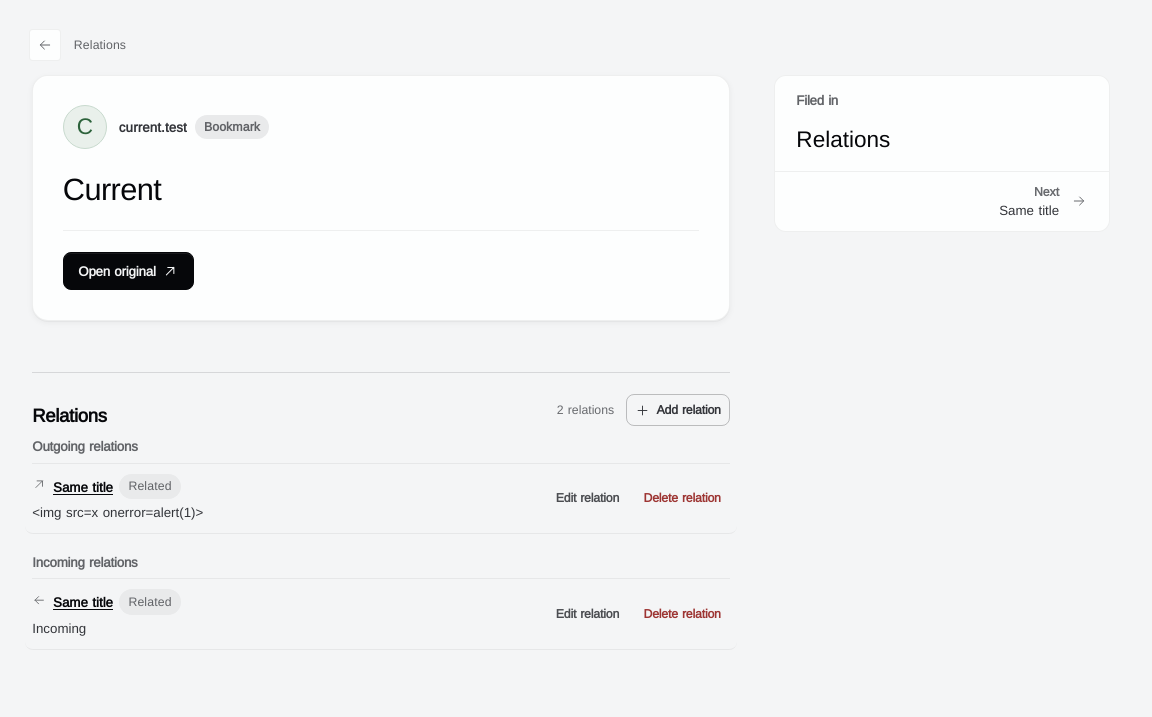
Test: Resource Detail Relation workflow › replays the exact replacement phase and command after an unknown create outcome
Click the button "Edit relation" in the row of "<img src=x onerror=alert(1)>" at (587, 498), box 547,482 -> 628,514
(page scrolled)
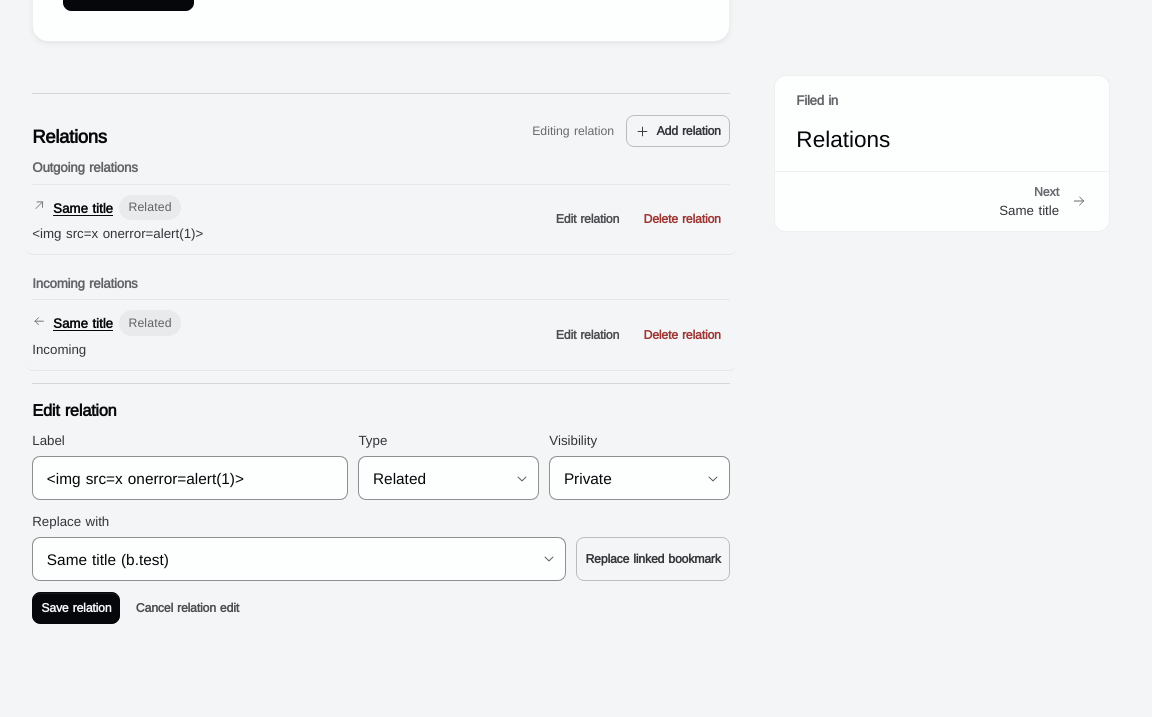
Select "Same title (a.test)" in the dropdown named "Replace with" at (299, 559), box 32,537 -> 566,581
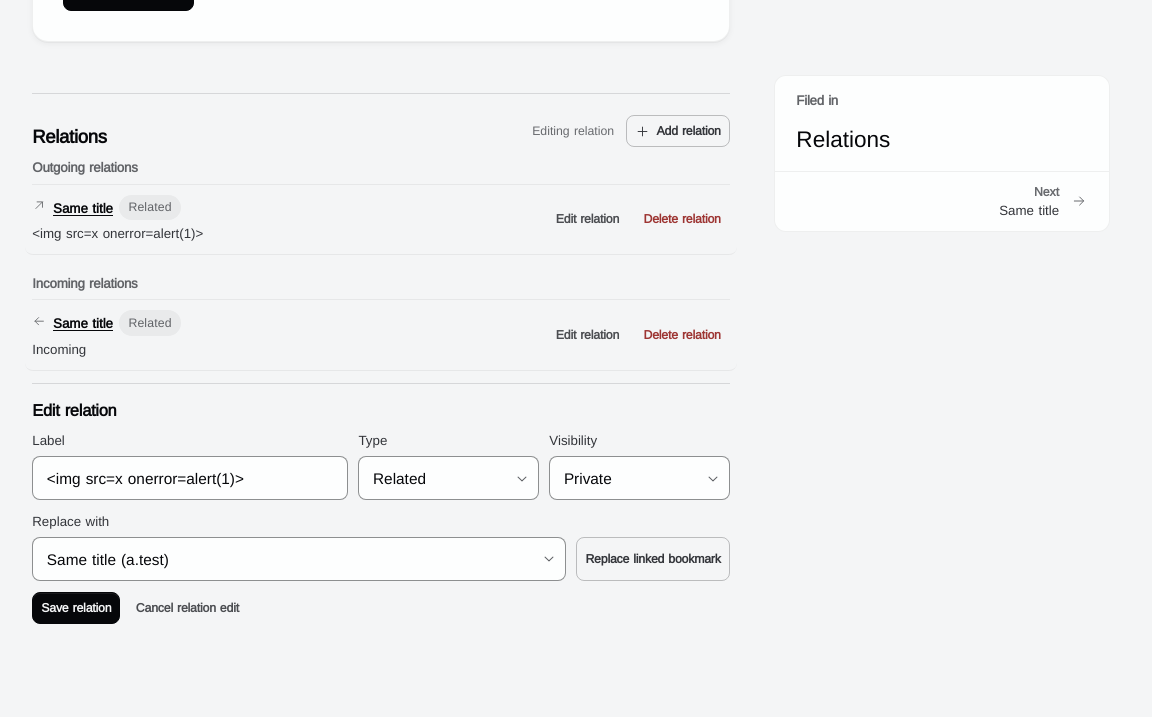
Click the button "Replace linked bookmark" at (653, 559), box 576,537 -> 730,581
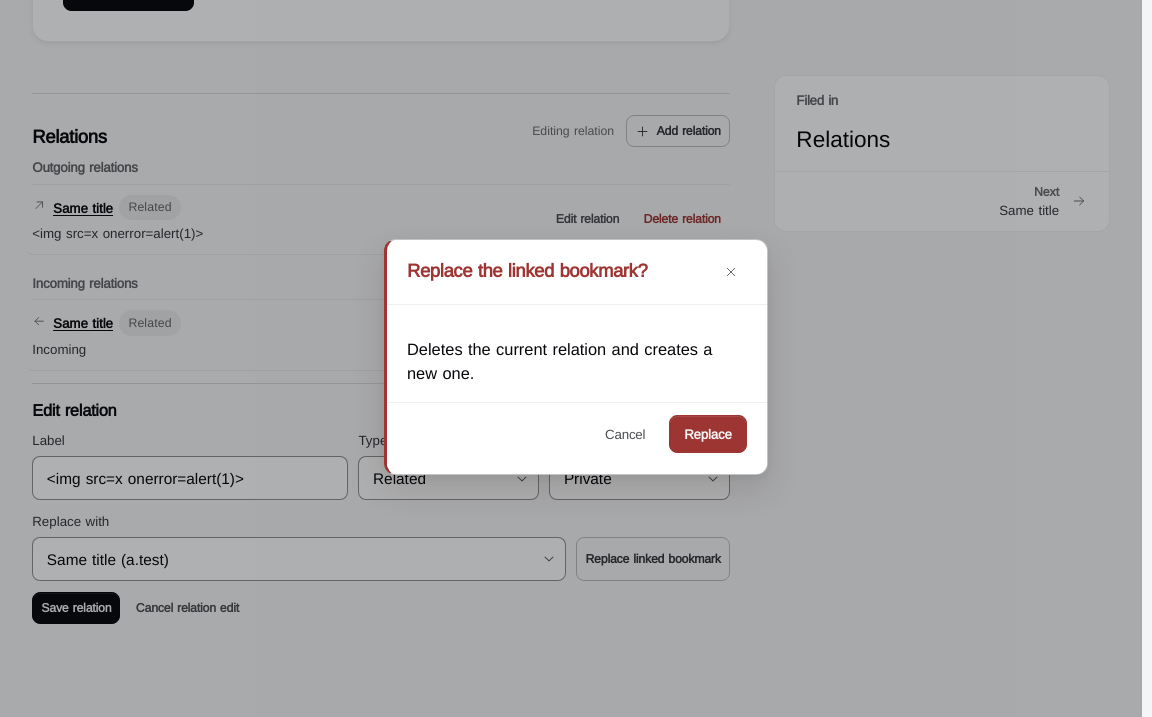
Click the button "Replace" at (708, 434), box 669,415 -> 747,453
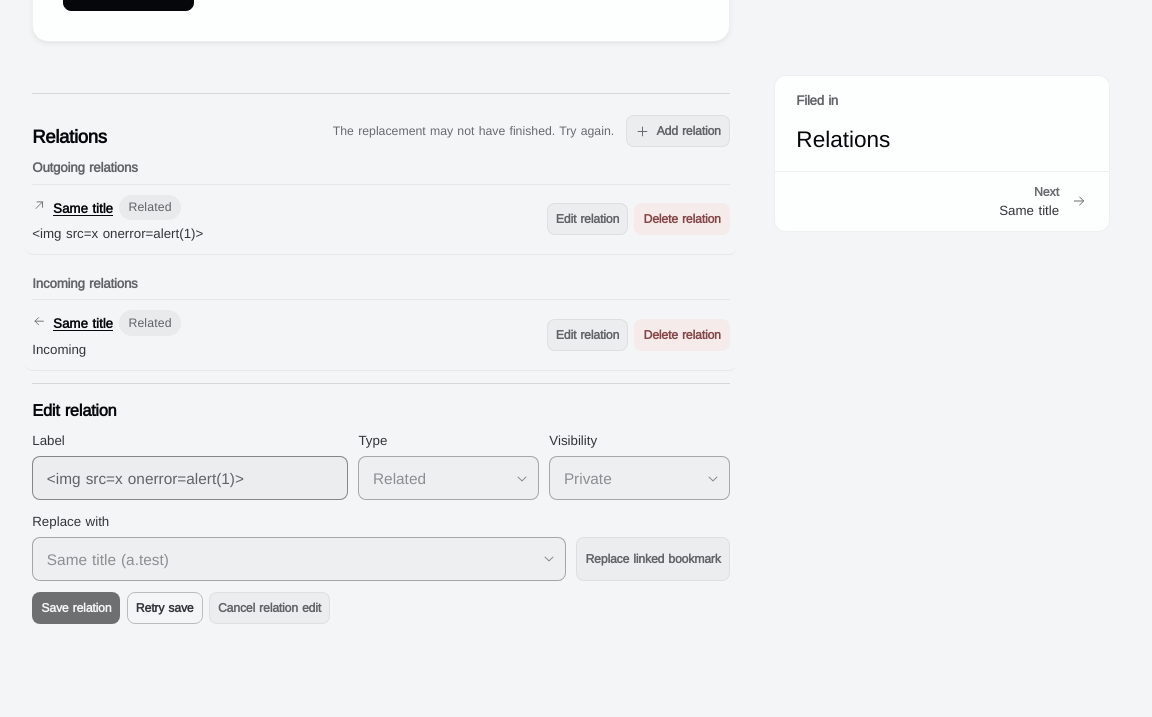
expect the text "The replacement may not have finished" is shown: met, box 333,123 -> 614,138
Click the button "Retry save" at (165, 608), box 127,592 -> 202,624
(page scrolled)
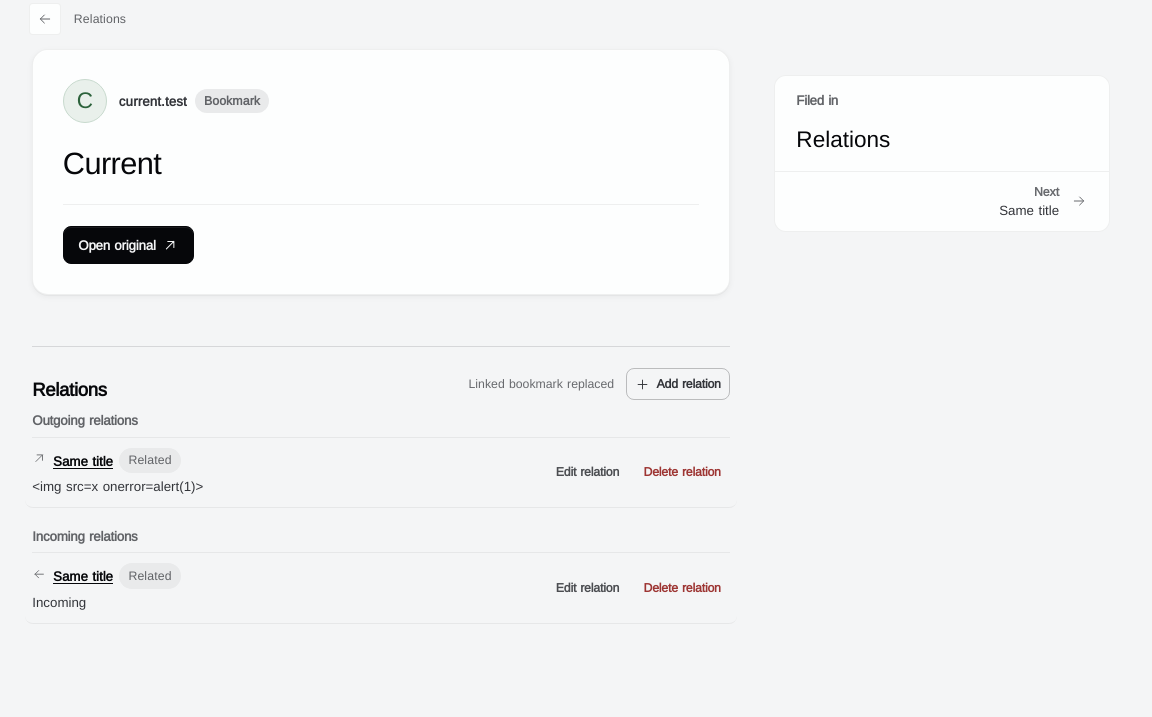
expect the text "Linked bookmark replaced" is shown: met, box 468,375 -> 614,393
